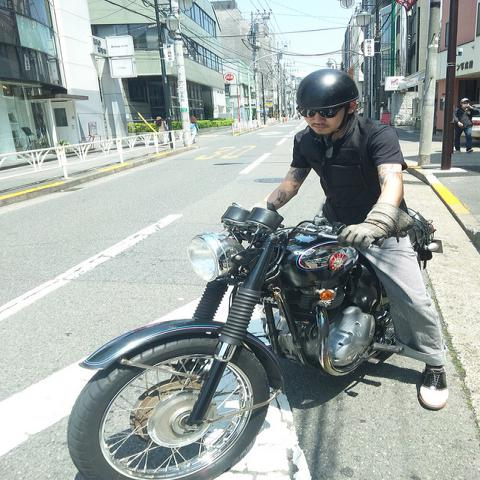motorcycle: (68, 205, 400, 475)
